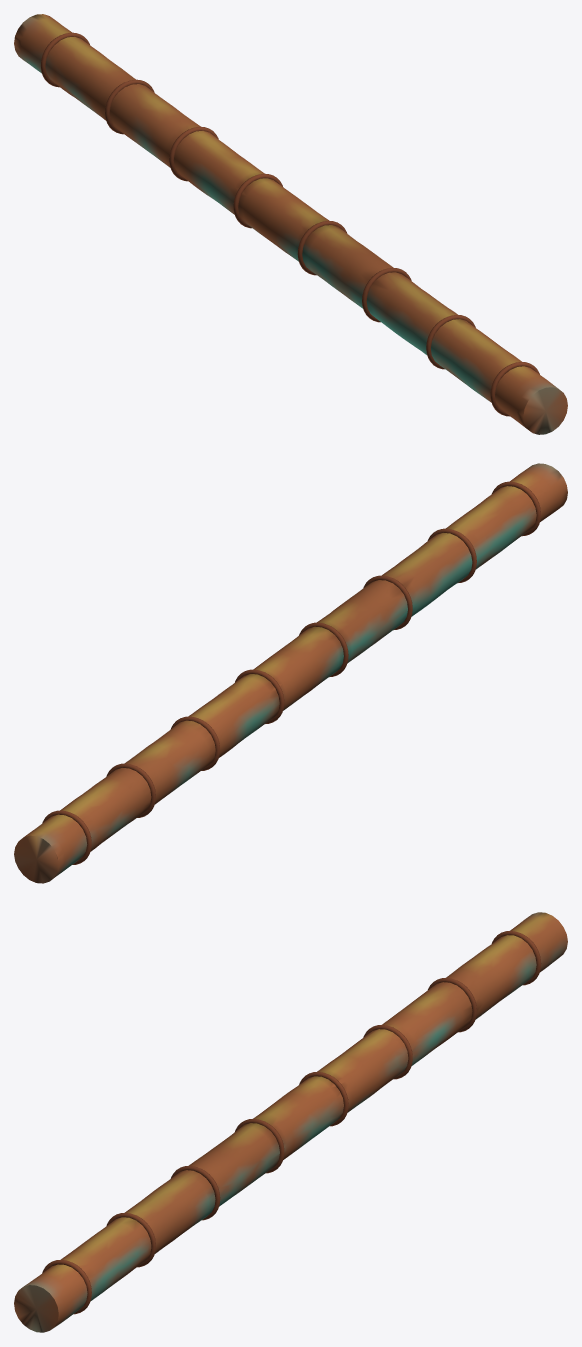
File: grotto_copper_pipe.glb
3 renders of one model, top to bottom at view 1: azimuth 30°, elevation 25°; view 2: azimuth 150°, elevation 25°; view 3: azimuth 330°, elevation 25°, orthographic.
Visible parts, largest first — view 1: grotto_copper_pipe; view 2: grotto_copper_pipe; view 3: grotto_copper_pipe.
Boxes of the visible parts, left/top/right/bottom form: grotto_copper_pipe: left=14, top=14, right=567, bottom=434; grotto_copper_pipe: left=14, top=463, right=567, bottom=883; grotto_copper_pipe: left=14, top=912, right=567, bottom=1332.
Bounding box in the file's own units: 2.96 × 2.96 × 51.22.
